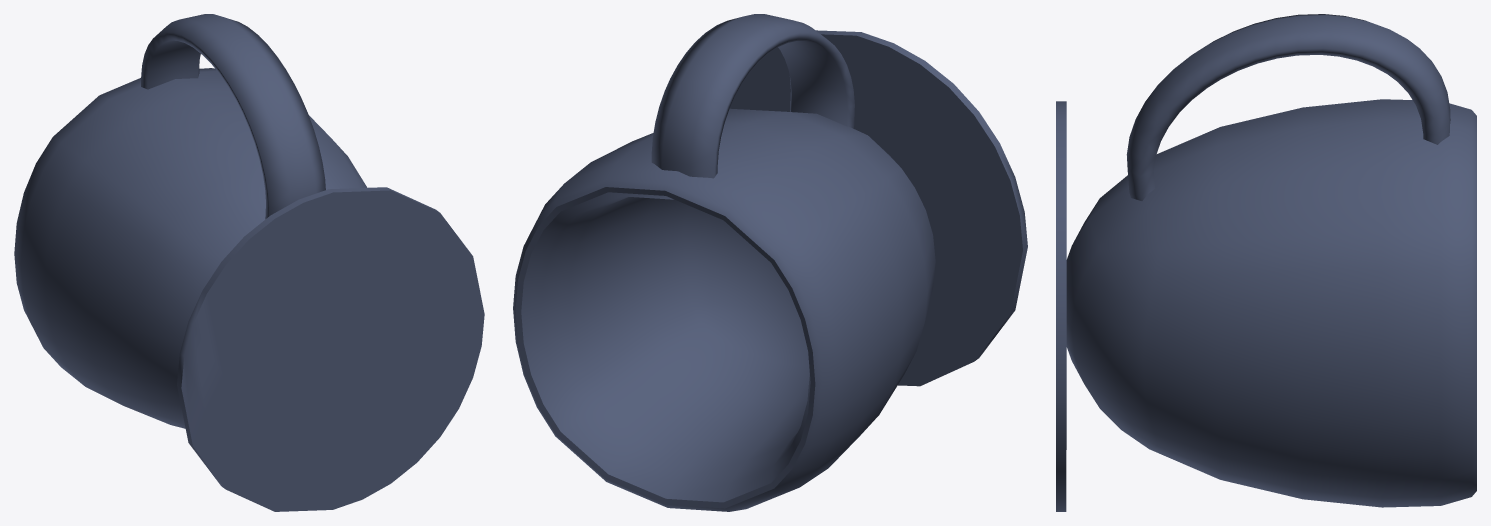
The model's file is bowl.fbx.
The picture shows the model from 3 angles, left to right: view 1: azimuth 30°, elevation 25°; view 2: azimuth 150°, elevation 25°; view 3: azimuth 270°, elevation 25°; orthographic projection. The views are drawn at different scales.
Parts seen in each view (by area): view 1: Circle.007; view 2: Circle.007; view 3: Circle.007.
Boxes of the visible parts, x1,y1,x2,y2 form: Circle.007: [14, 14, 484, 511]; Circle.007: [513, 14, 1027, 511]; Circle.007: [1056, 14, 1476, 511].
Size of the model in its own units: 0.1536 by 0.194 by 0.1572.
